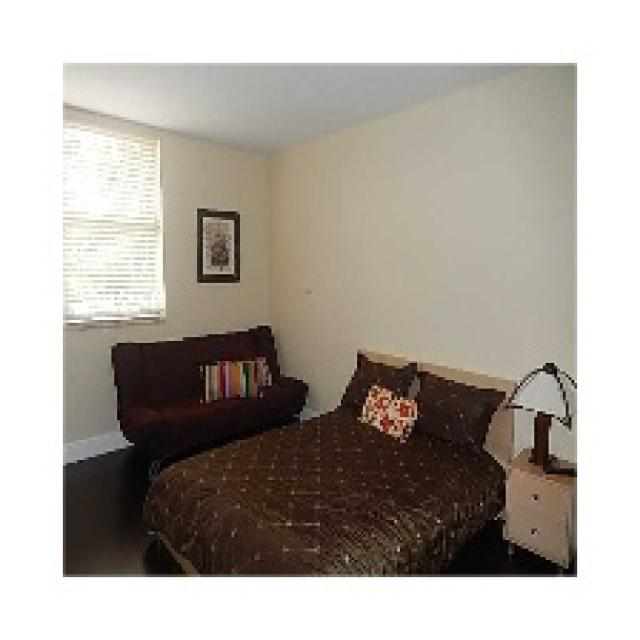Bed: (140, 349, 517, 574)
